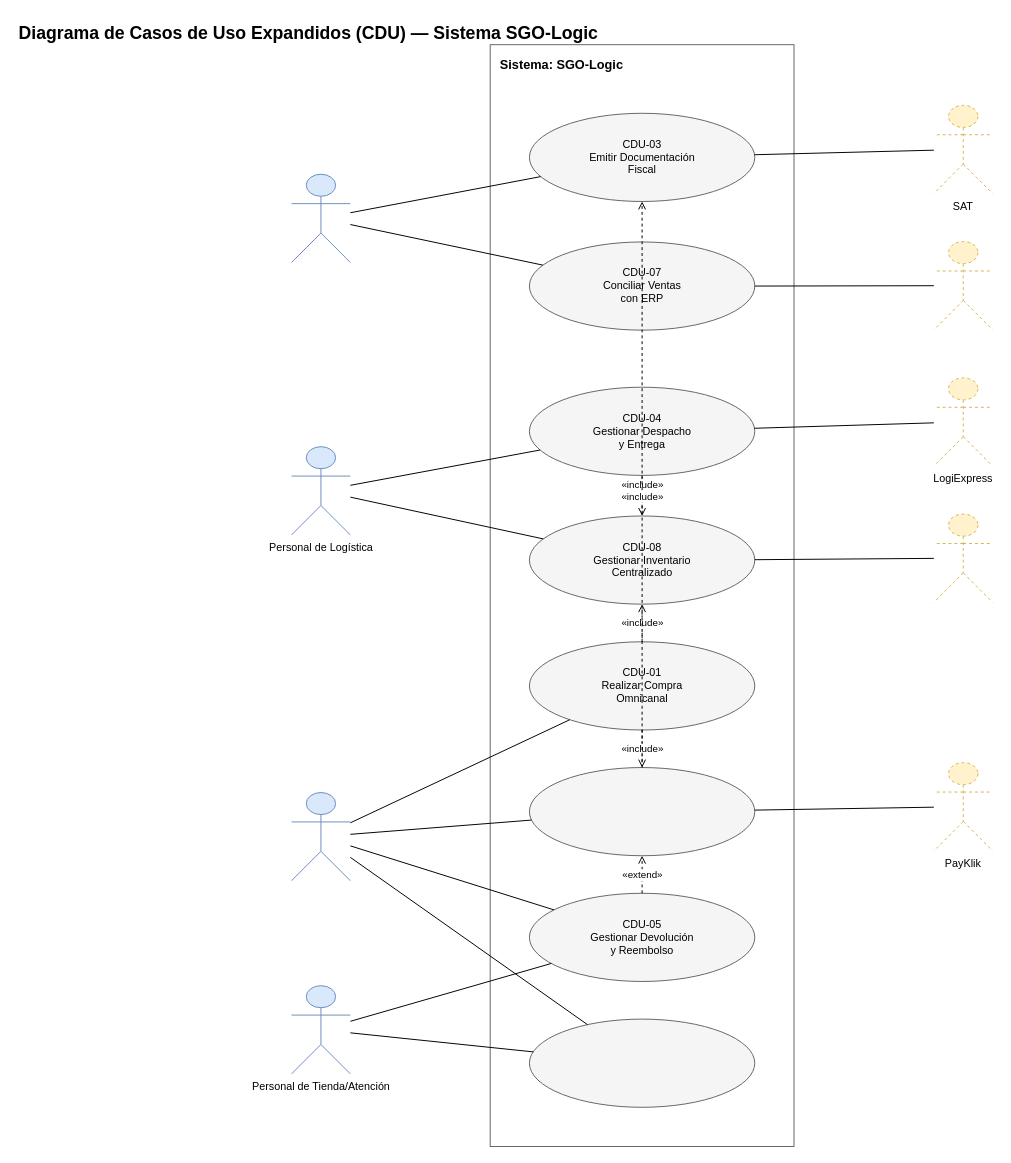
Image size: 1011x1163. Some labels were removed from this diagram. The centre of each missing label's shape, as x and y in pixels:
"CDU-02 Procesar Pago de la Orden" belongs at (641,811).
"CDU-06 Consultar Estado de Orden" belongs at (641,1062).
"Cliente" belongs at (320,836).
"ERP-Core" belongs at (963,285).
"Finanzas" belongs at (320,217).
"POS (tienda)" belongs at (963,557).
